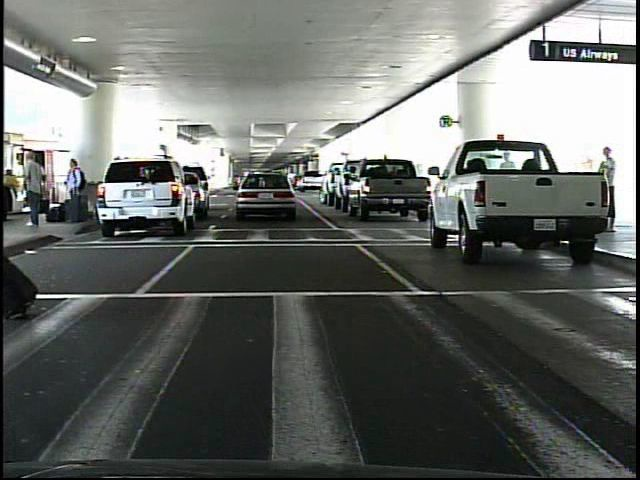person: (589, 144, 622, 230), (21, 150, 48, 226), (62, 156, 85, 225)
